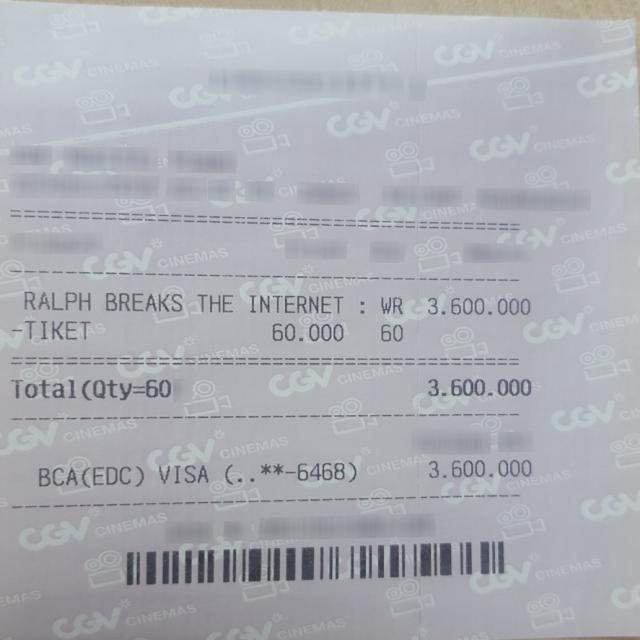text: (34, 463, 142, 488), (427, 295, 529, 315), (260, 461, 354, 482), (427, 458, 530, 477), (81, 380, 170, 400), (427, 378, 529, 395), (249, 295, 342, 313), (105, 292, 182, 311), (10, 321, 88, 338), (272, 323, 342, 340), (23, 291, 88, 309), (10, 380, 74, 398), (158, 464, 207, 484), (197, 294, 232, 312), (224, 464, 253, 484), (381, 322, 401, 340), (382, 296, 401, 313), (358, 300, 366, 314)
